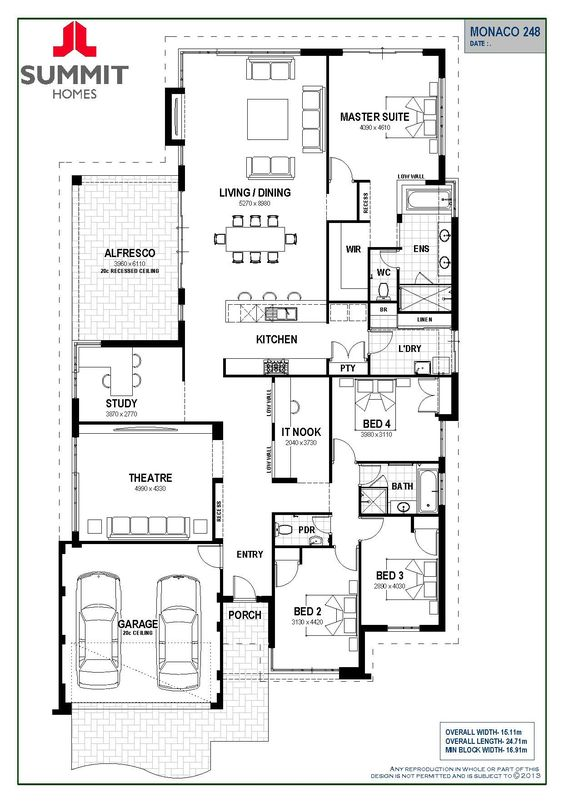room: (177, 47, 329, 378), (71, 420, 215, 545), (326, 48, 445, 184), (271, 545, 361, 680), (329, 373, 444, 464), (358, 514, 444, 632)
